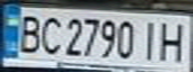0: (115, 17, 139, 61)
2: (60, 14, 84, 57)
7: (78, 15, 100, 58)
9: (96, 16, 121, 60)
B: (12, 11, 45, 54)
C: (36, 12, 63, 55)
H: (154, 17, 193, 63)
I: (136, 17, 163, 62)
